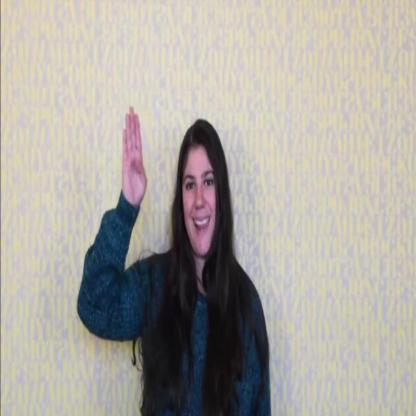Hello: (101, 79, 265, 362)
